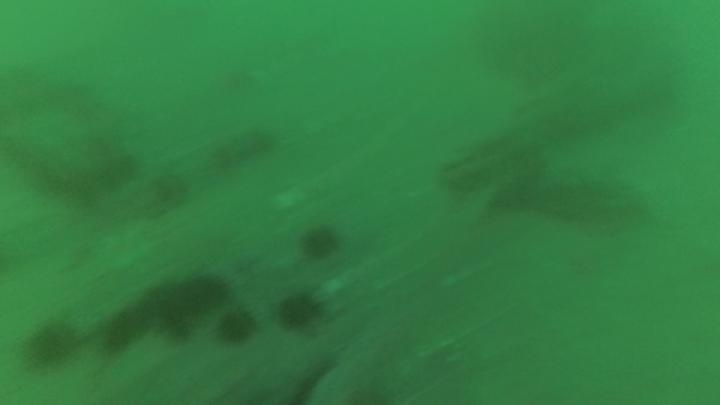echinus: (23, 317, 80, 370), (176, 271, 231, 314), (100, 306, 145, 356), (276, 290, 323, 331), (97, 150, 140, 192), (215, 306, 258, 346), (149, 170, 192, 210), (299, 223, 342, 262)
